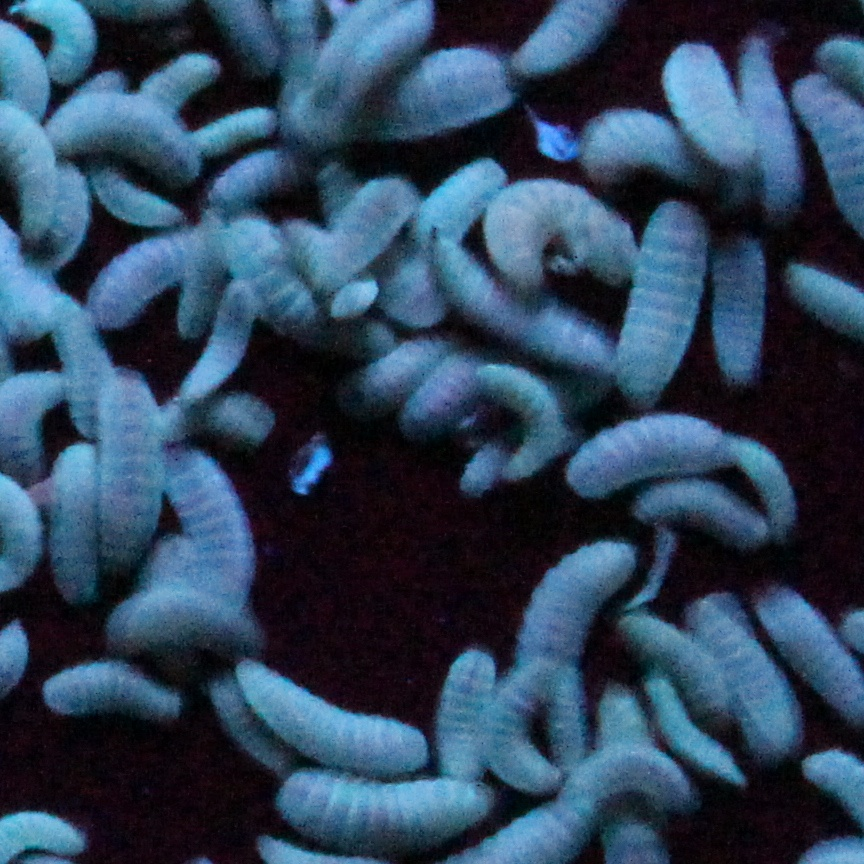larve: (236, 652, 430, 774), (431, 244, 607, 355), (280, 767, 496, 847), (517, 537, 637, 672), (624, 204, 705, 402), (565, 414, 744, 500), (484, 176, 628, 276), (348, 48, 511, 136), (48, 98, 198, 185), (94, 374, 153, 572), (665, 43, 753, 172), (315, 176, 413, 289), (625, 614, 732, 714), (486, 360, 573, 480), (111, 591, 274, 654), (488, 664, 571, 787), (92, 227, 187, 328), (41, 662, 184, 722), (630, 486, 765, 542), (186, 287, 253, 399), (715, 233, 765, 376), (439, 640, 490, 775), (342, 331, 447, 392), (398, 364, 482, 435)
